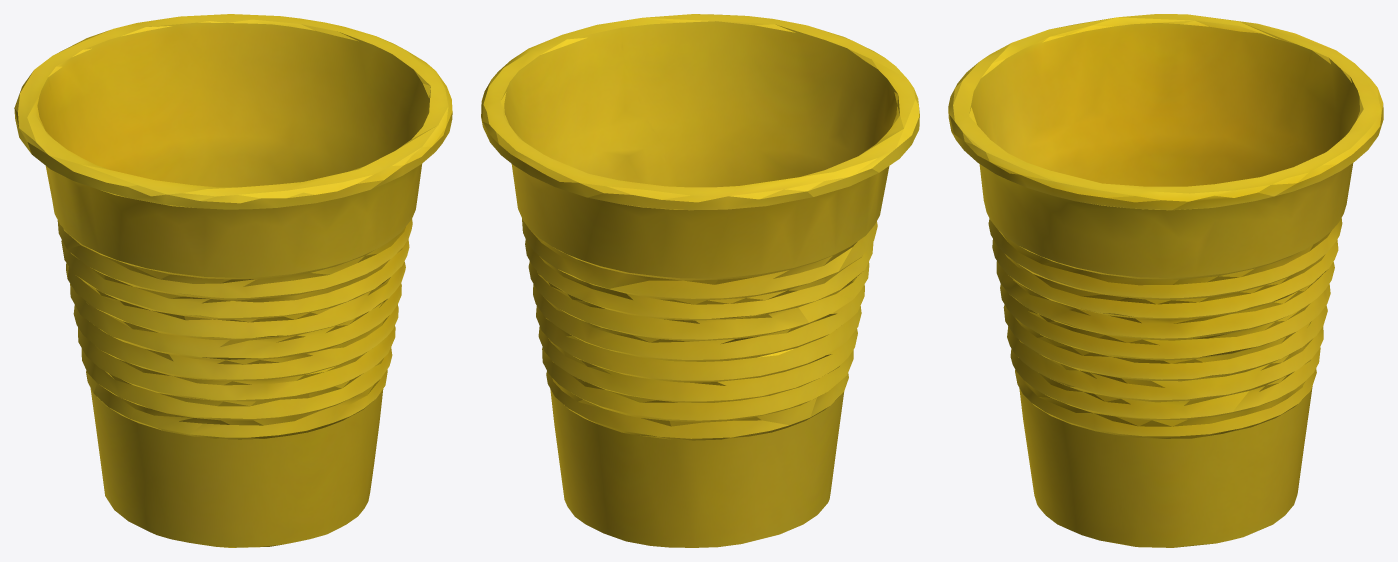
Rendered from small-cup.glb.
3 views of the same model, side by side, from view 1: azimuth 30°, elevation 25°; view 2: azimuth 150°, elevation 25°; view 3: azimuth 270°, elevation 25° (orthographic).
Parts seen in each view (by area): view 1: model; view 2: model; view 3: model.
Part boxes in pixels (box(x1,y1,x2,y2)): model: box(14, 14, 452, 547); model: box(481, 14, 919, 547); model: box(948, 14, 1383, 547).
Bounding box in the file's own units: 1.9 × 1.86 × 1.89.
Materials: 1 (1 with a texture image).
